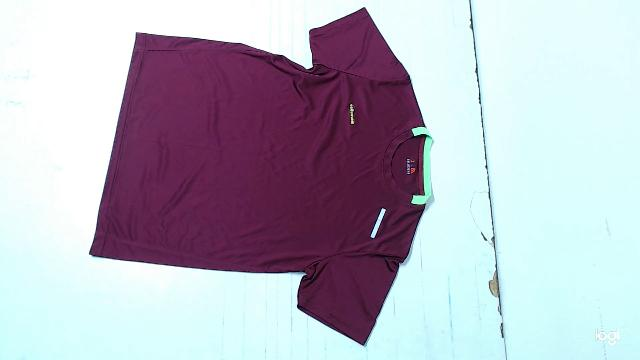new-garment: (90, 8, 432, 344)
